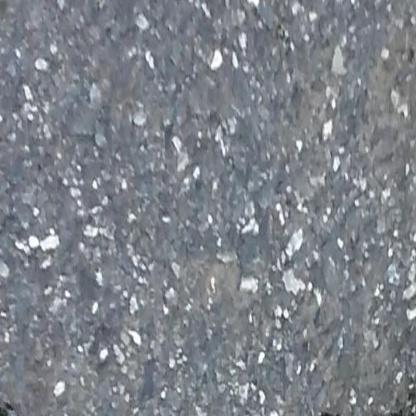Cracks: (314, 387, 416, 416), (0, 397, 36, 416)
